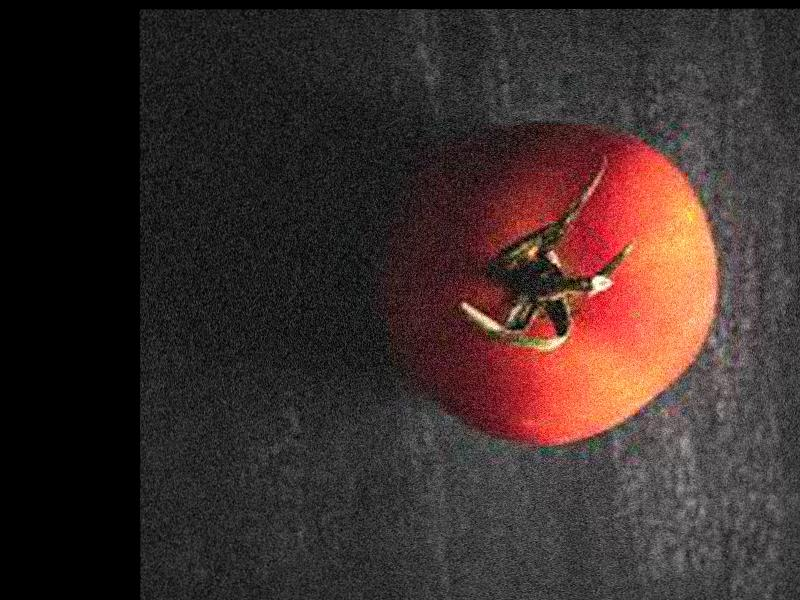Tomato: (383, 126, 720, 445)
